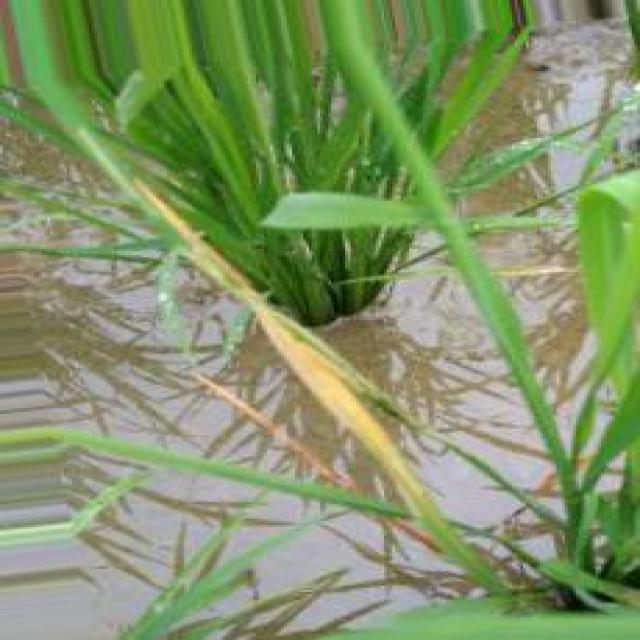Rice Tungro: (136, 181, 492, 588)
